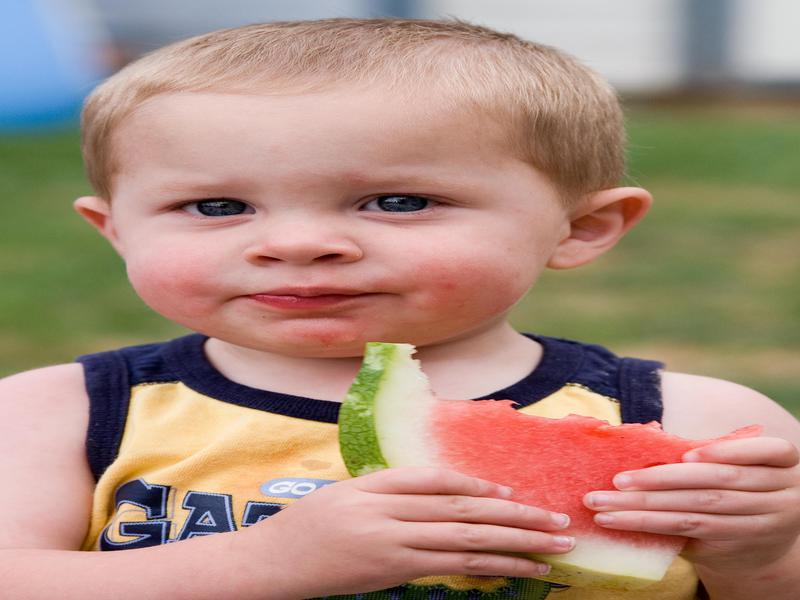person: (3, 19, 800, 600)
